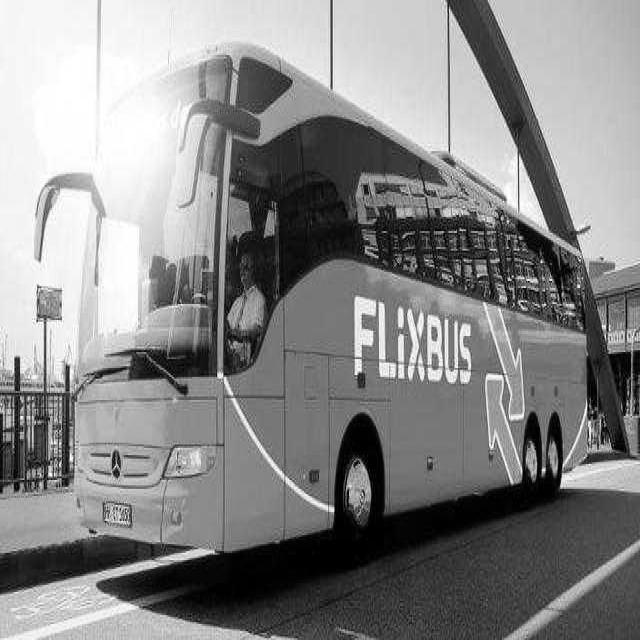Bus: (34, 42, 586, 550)
